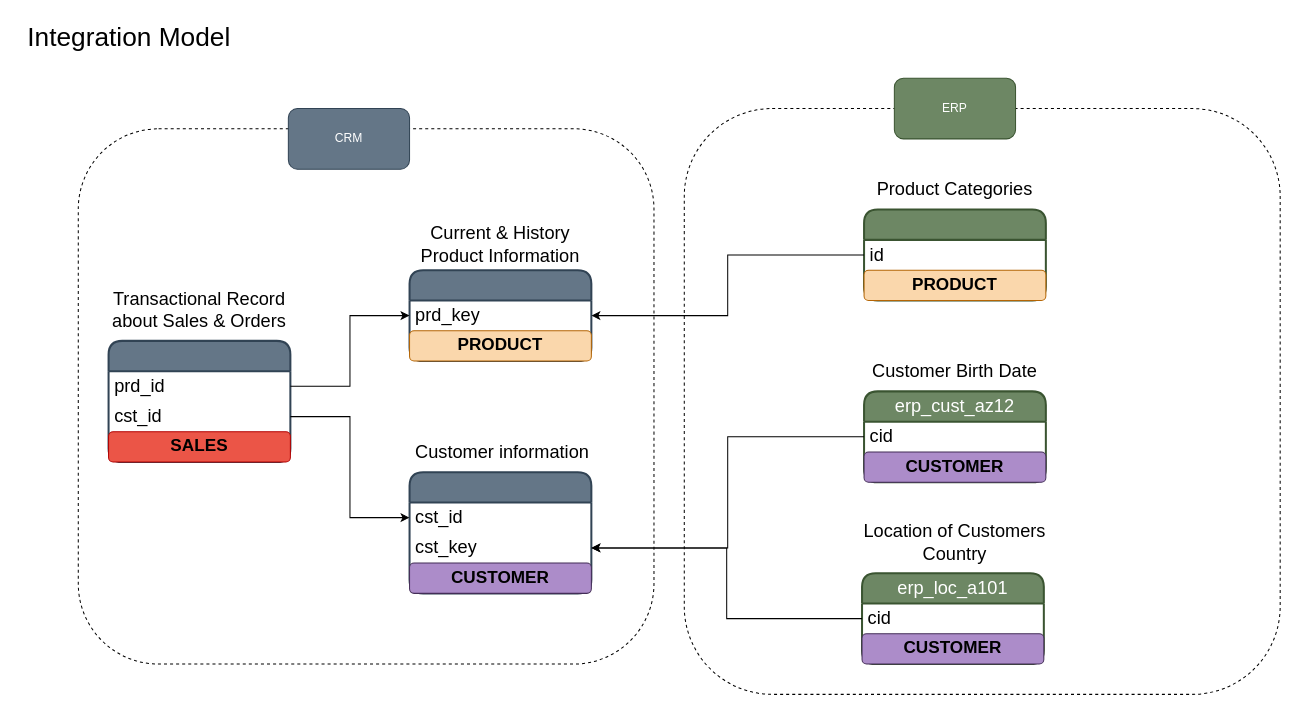
Some shapes in this 1298 by 712 pixel diagram are drawn without their labels. Each missing label, with the box of its shape:
crm_cust_info: (408, 471, 592, 594)
crm_prd_info: (408, 269, 592, 362)
crm_sales_details: (107, 339, 291, 463)
erp_px_cat_g1v2: (863, 208, 1046, 301)
